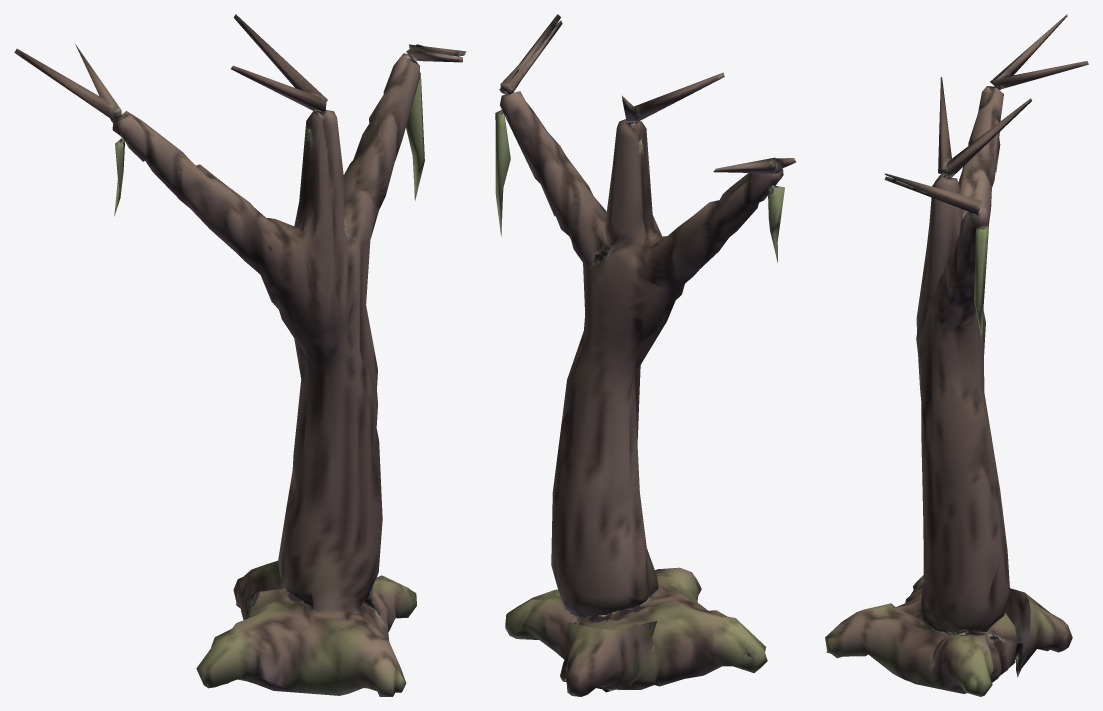
Rendered from dead_tree_c.glb.
3 views of the same model, side by side, from view 1: azimuth 30°, elevation 25°; view 2: azimuth 150°, elevation 25°; view 3: azimuth 270°, elevation 25° (orthographic). The views are drawn at different scales.
Parts seen in each view (by area): view 1: dead_tree_c; view 2: dead_tree_c; view 3: dead_tree_c.
Part boxes in pixels (x1,y1,x2,y2): dead_tree_c: (14, 14, 466, 696); dead_tree_c: (495, 14, 795, 696); dead_tree_c: (825, 14, 1088, 696).
Bounding box in the file's own units: 1.75 × 2.96 × 1.27.
1 material, 1 textured.
